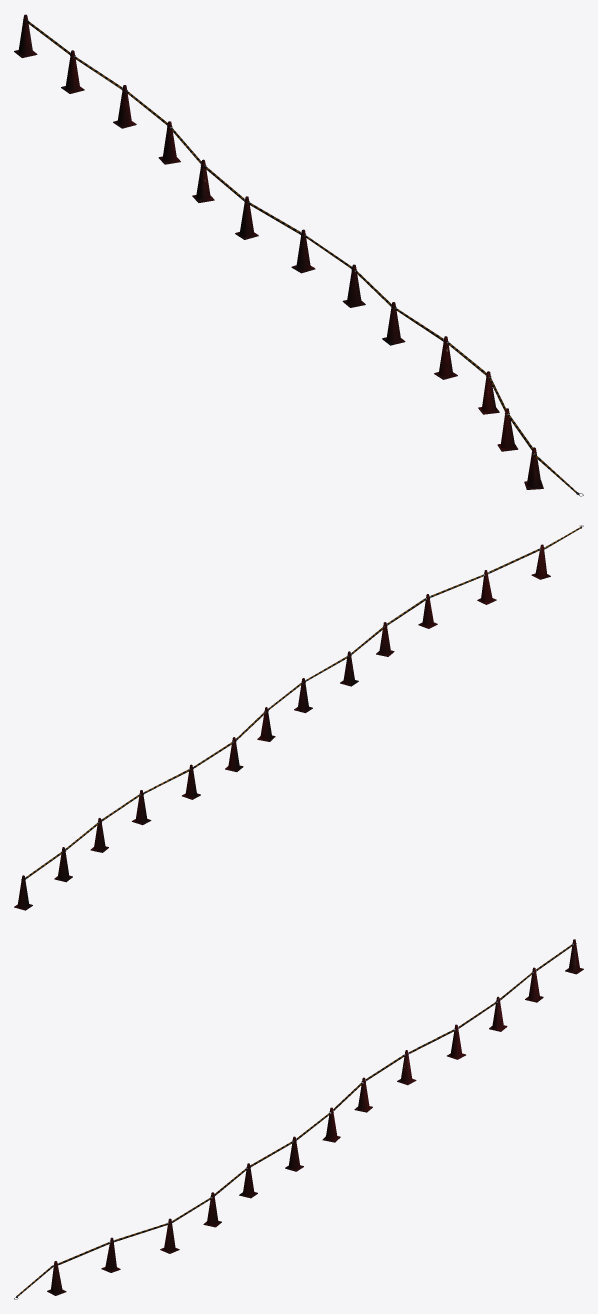
The picture shows the model from 3 angles, top to bottom: view 1: azimuth 30°, elevation 25°; view 2: azimuth 150°, elevation 25°; view 3: azimuth 330°, elevation 25°; orthographic projection. The views are drawn at different scales.
Parts seen in each view (by area): view 1: Cone; view 2: Cone; view 3: Cone.
Boxes of the visible parts, x1,y1,x2,y2 form: Cone: (14, 14, 583, 496); Cone: (14, 525, 583, 910); Cone: (14, 939, 583, 1299).
Size of the model in its own units: 2.2 by 1.07 by 27.49.
1 material, 1 textured.
